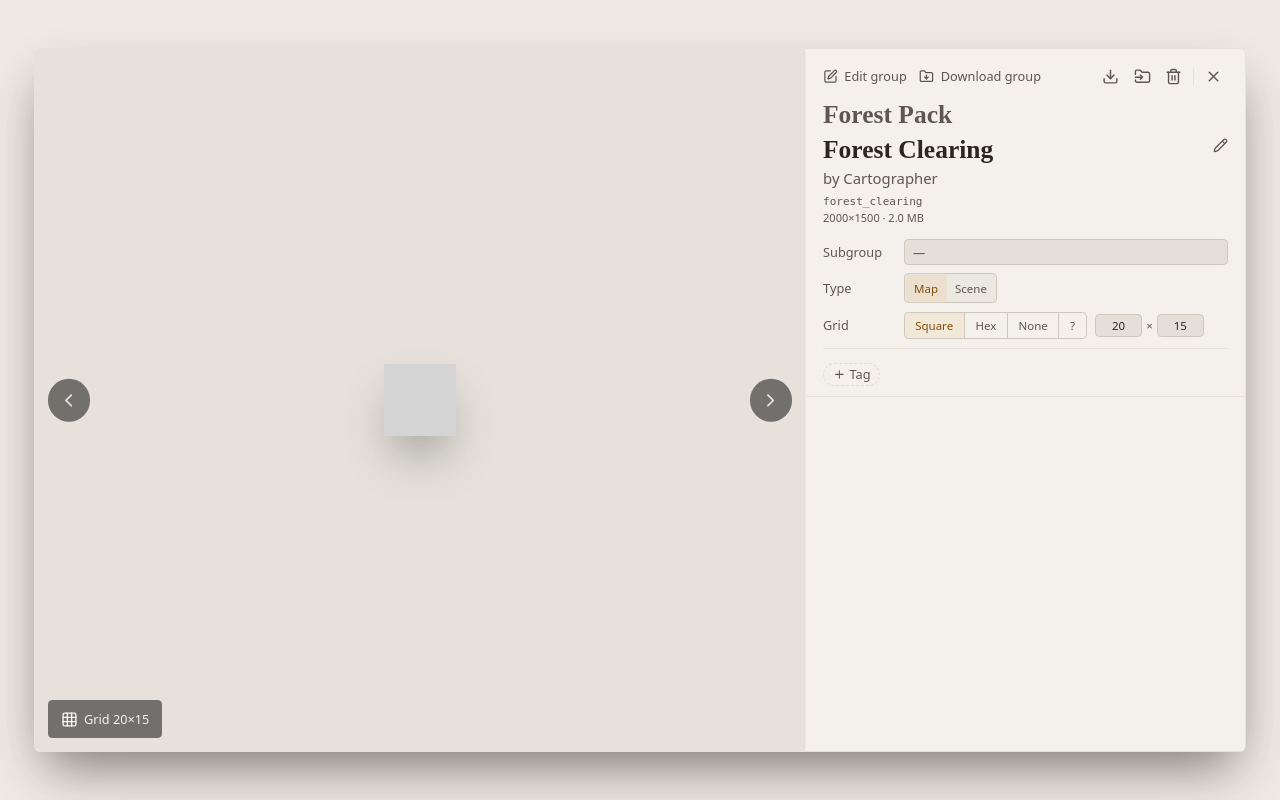
ImageViewer › rename › reverts on Escape without saving or closing the viewer
The width and height of the screenshot is (1280, 800).
Click the button titled "Rename" at point(1221, 146), box [1213,138,1228,153]
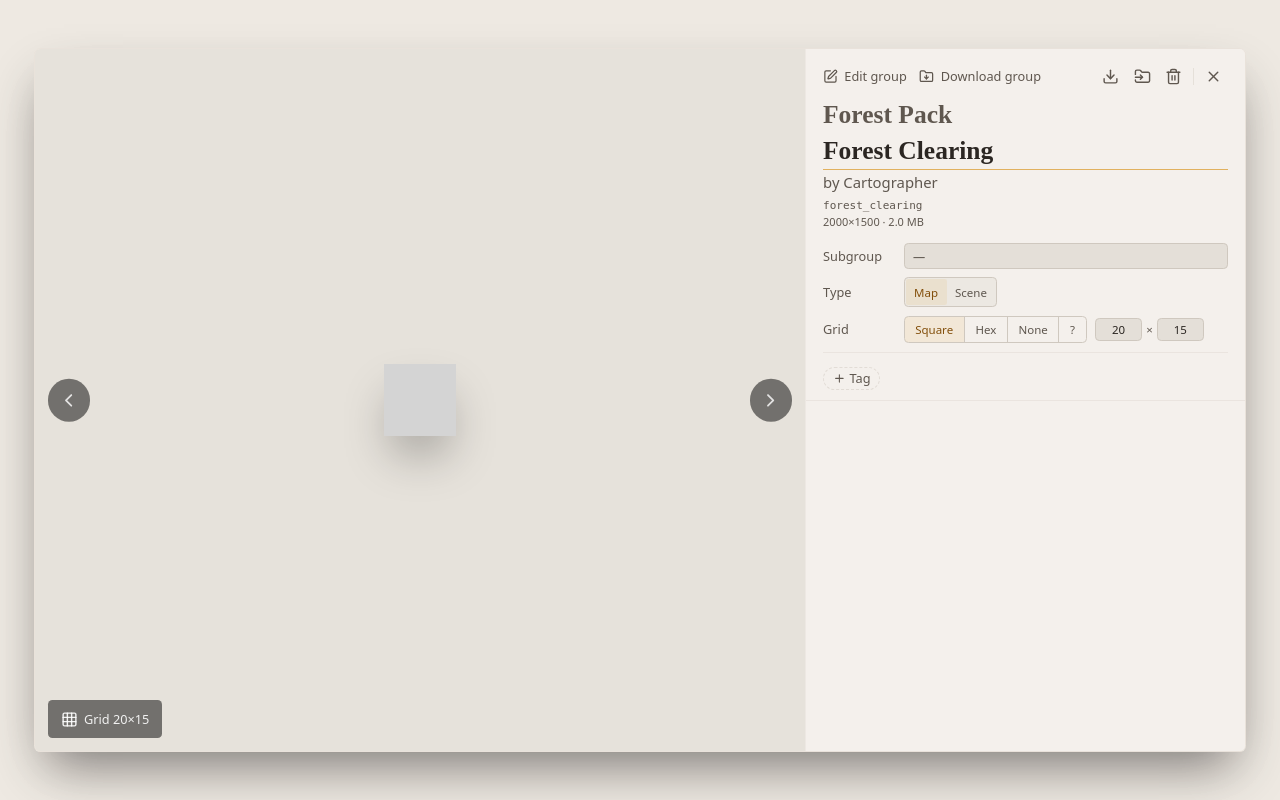
Type " edited" into the field showing "Forest Clearing" at point(1026, 152), box [823,134,1228,170]
Then press Escape
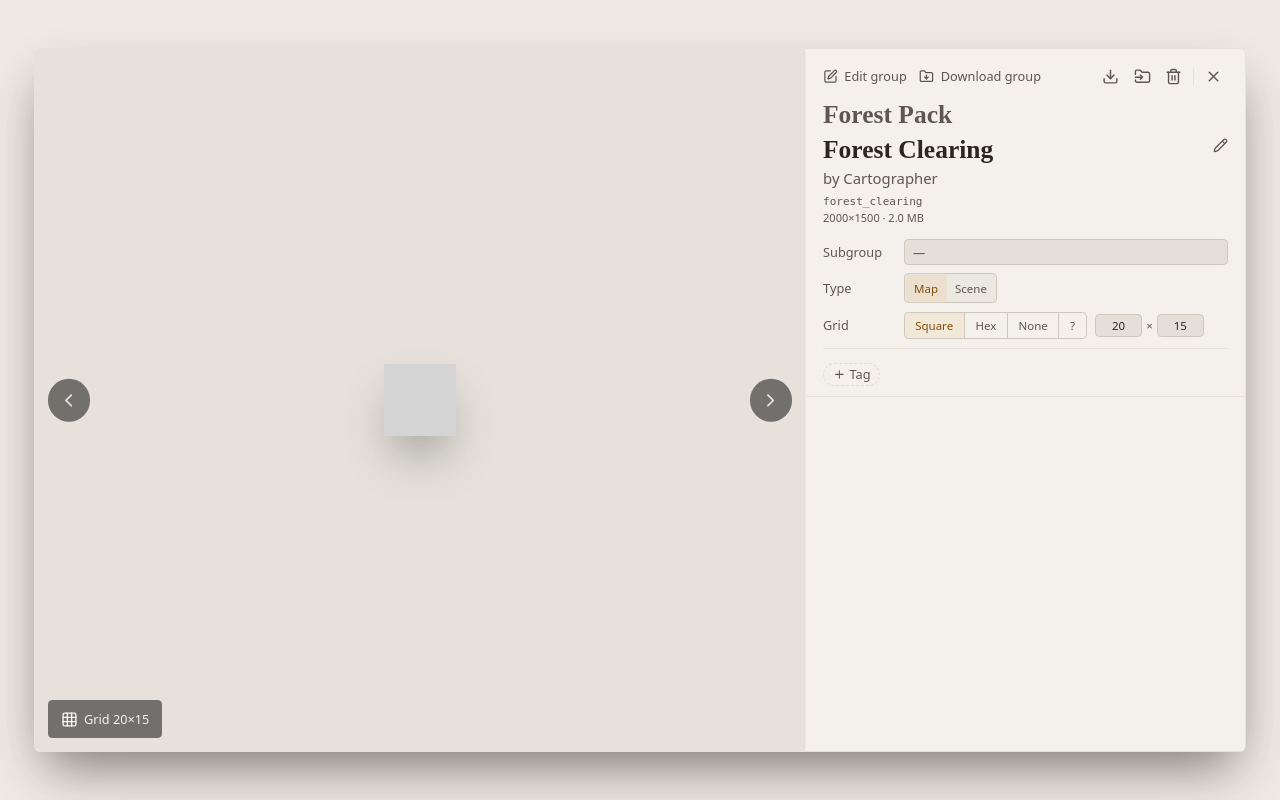
Expected: the heading "Forest Clearing" is shown, [823,135,993,164]
